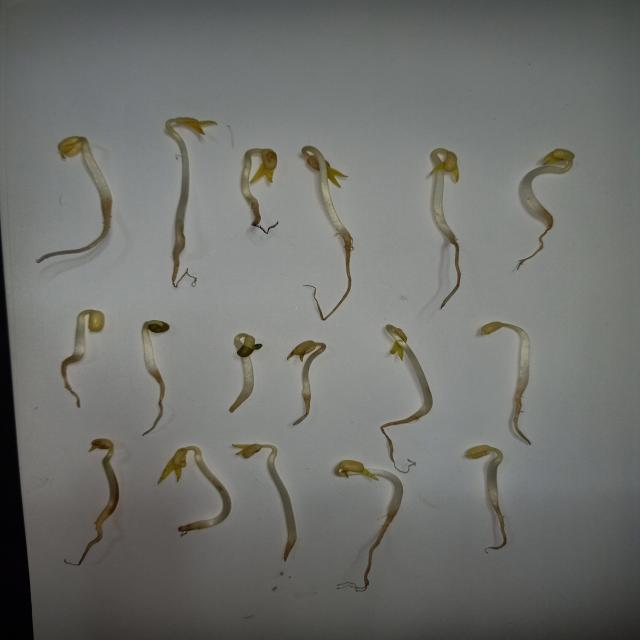leaf: (304, 154, 351, 191), (422, 153, 471, 184), (326, 458, 380, 484), (158, 446, 188, 490), (250, 148, 279, 185), (455, 438, 496, 462), (282, 338, 318, 364), (386, 326, 412, 361), (176, 116, 220, 135), (56, 136, 84, 161), (82, 434, 118, 453), (235, 334, 262, 358), (230, 440, 259, 460), (143, 318, 174, 336), (476, 319, 502, 340), (90, 308, 104, 336)
root: (302, 235, 363, 324), (33, 199, 117, 260), (338, 517, 398, 601), (132, 374, 175, 438), (464, 507, 514, 558), (514, 217, 556, 274), (59, 526, 112, 569), (375, 412, 423, 456), (507, 392, 544, 448), (439, 238, 464, 310), (56, 356, 88, 408), (170, 244, 199, 290), (288, 399, 322, 430), (261, 540, 300, 562), (217, 396, 259, 416), (249, 210, 281, 236), (533, 145, 578, 163), (178, 522, 199, 538)
stem: (382, 322, 435, 412), (300, 142, 349, 235), (262, 441, 306, 542), (186, 441, 232, 525), (164, 118, 192, 245), (513, 161, 575, 216), (339, 468, 407, 518), (87, 451, 129, 525), (469, 448, 514, 506), (287, 341, 330, 397), (503, 318, 535, 392), (430, 146, 454, 241), (81, 136, 113, 199), (230, 333, 256, 398), (240, 144, 262, 209), (136, 320, 160, 376), (66, 308, 92, 356)
